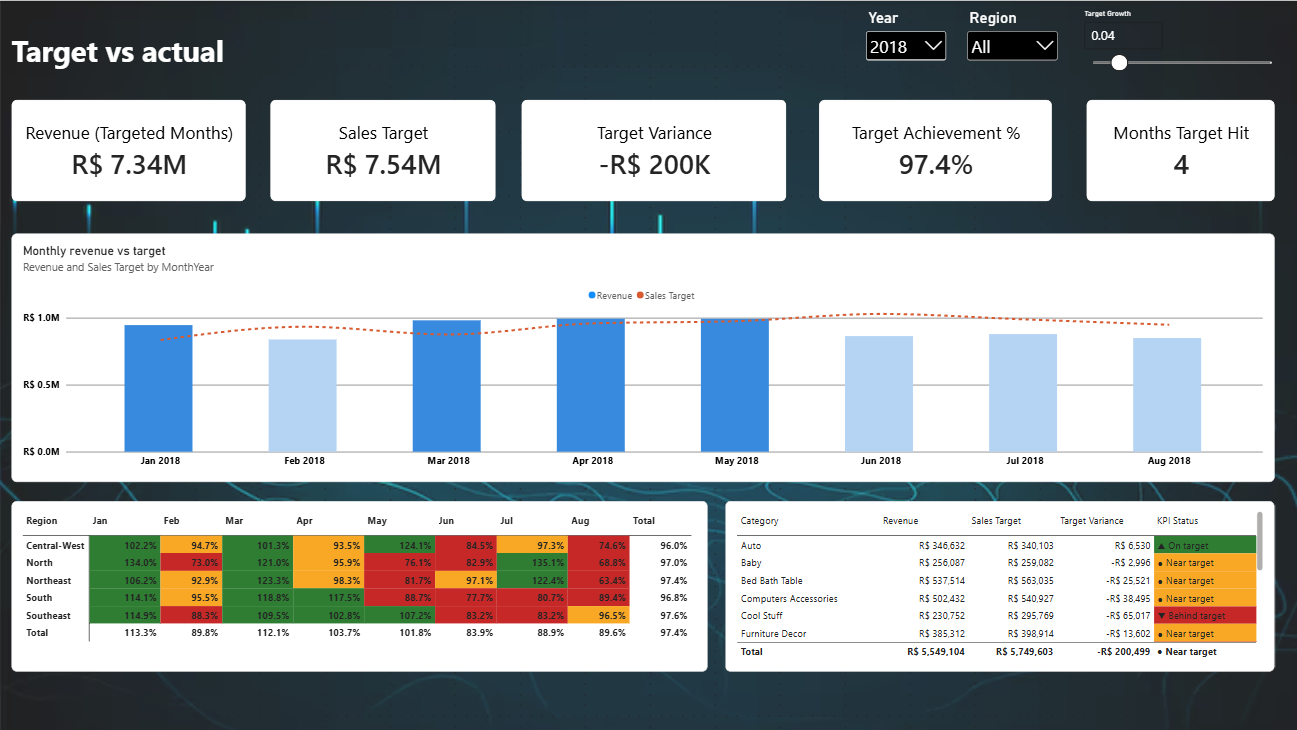

This screenshot's page, from the dashboard's own definition file:
{"tool":"powerbi","page":{"name":"Target vs Actual","canvas":[1920,1080],"ordinal":1},"visuals":[{"type":"textbox","box":[18.8,45.2,512,73.4],"z":0},{"type":"slicer","fields":{"Values":["DimDate.Year"]},"box":[1275.7,10.8,128,100.6],"z":1000},{"type":"slicer","fields":{"Values":["DimState.Region"]},"box":[1425,10.9,143.1,101.6],"z":2000},{"type":"cardVisual","fields":{"Data":["_Measures.Revenue (Targeted Months)"]},"box":[18.8,144.9,346.4,150.6],"z":3000},{"type":"cardVisual","fields":{"Data":["_Measures.Sales Target"]},"box":[400.9,144.9,333.2,150.6],"z":4000},{"type":"cardVisual","fields":{"Data":["_Measures.Target Achievement %"]},"box":[1210.4,144.9,344.5,150.6],"z":5000},{"type":"cardVisual","fields":{"Data":["_Measures.Months Target Hit"]},"box":[1605.6,144.9,278.6,150.6],"z":6000},{"type":"lineClusteredColumnComboChart","title":"Monthly revenue vs target","fields":{"Category":["DimDate.MonthYear"],"Y":["_Measures.Revenue"],"Y2":["_Measures.Sales Target"]},"box":[18.8,342.6,1865.4,367.1],"z":7000},{"type":"pivotTable","fields":{"Columns":["DimDate.Month"],"Rows":["DimState.Region"],"Values":["_Measures.Target Achievement %"]},"box":[18.8,737.9,1027.8,252.2],"z":8000},{"type":"tableEx","fields":{"Values":["DimProduct.Category","_Measures.Revenue","_Measures.Sales Target","_Measures.Target Variance","_Measures.KPI Status"]},"box":[1072.9,737.9,811.3,252.2],"z":9000},{"type":"slicer","fields":{"Values":["Target Growth.Target Growth"]},"box":[1594.4,11.3,301.2,107.3],"z":10000},{"type":"cardVisual","fields":{"Data":["_Measures.Target Variance"]},"box":[771.8,144.9,391.5,150.6],"z":11000}]}

Visuals, with their boxes in screenshot pixels (x1, y1, x2, y2), scaled from the page's 1920x1080 canvas onto the 1297x730 screenshot:
textbox: locate(13, 31, 359, 80)
slicer - DimDate.Year: locate(862, 7, 948, 75)
slicer - DimState.Region: locate(963, 7, 1059, 76)
cardVisual - _Measures.Revenue (Targeted Months): locate(13, 98, 247, 200)
cardVisual - _Measures.Sales Target: locate(271, 98, 496, 200)
cardVisual - _Measures.Target Achievement %: locate(818, 98, 1050, 200)
cardVisual - _Measures.Months Target Hit: locate(1085, 98, 1273, 200)
"Monthly revenue vs target" lineClusteredColumnComboChart: locate(13, 232, 1273, 480)
pivotTable - DimDate.Month x DimState.Region: locate(13, 499, 707, 669)
tableEx - DimProduct.Category x _Measures.Revenue: locate(725, 499, 1273, 669)
slicer - Target Growth.Target Growth: locate(1077, 8, 1281, 80)
cardVisual - _Measures.Target Variance: locate(521, 98, 786, 200)
